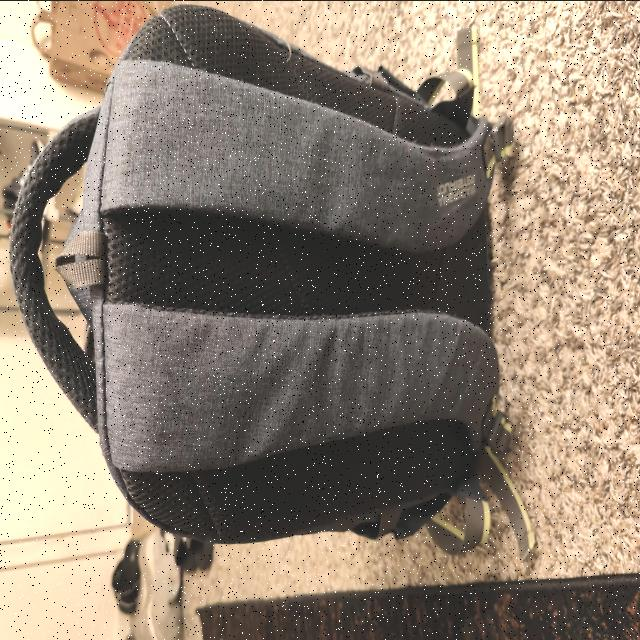bag: (17, 31, 484, 545)
